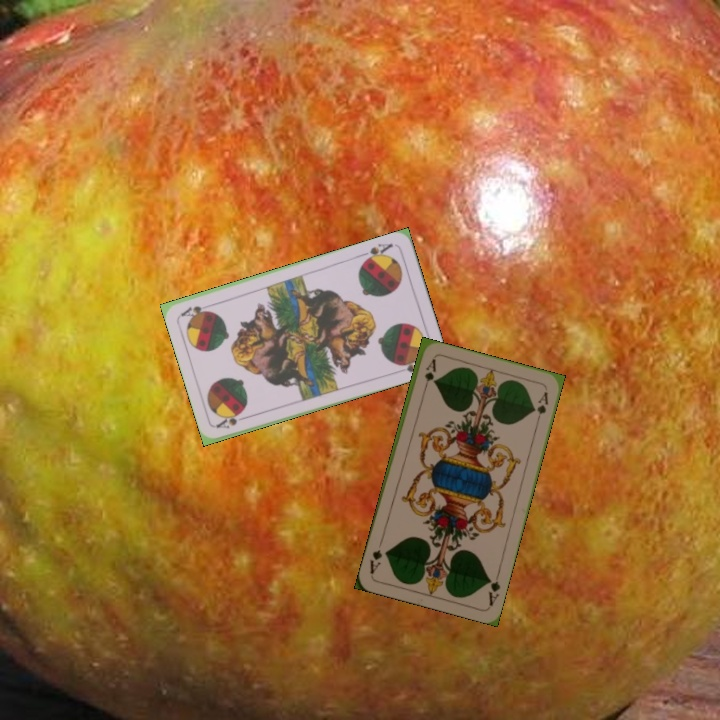GA: (484, 568, 503, 609), (419, 355, 438, 395)
SA: (357, 239, 395, 265), (212, 409, 252, 431)
